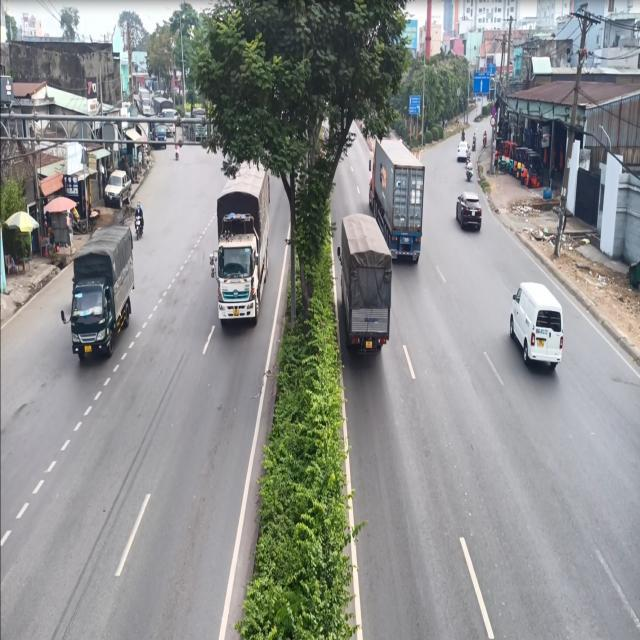car: (508, 282, 566, 373), (91, 163, 142, 203), (456, 189, 482, 234), (447, 134, 486, 162)
motorcycle: (131, 219, 150, 240)
person: (131, 199, 145, 228)
truck: (209, 155, 277, 327), (65, 227, 133, 359), (339, 214, 391, 355), (368, 138, 425, 262)
